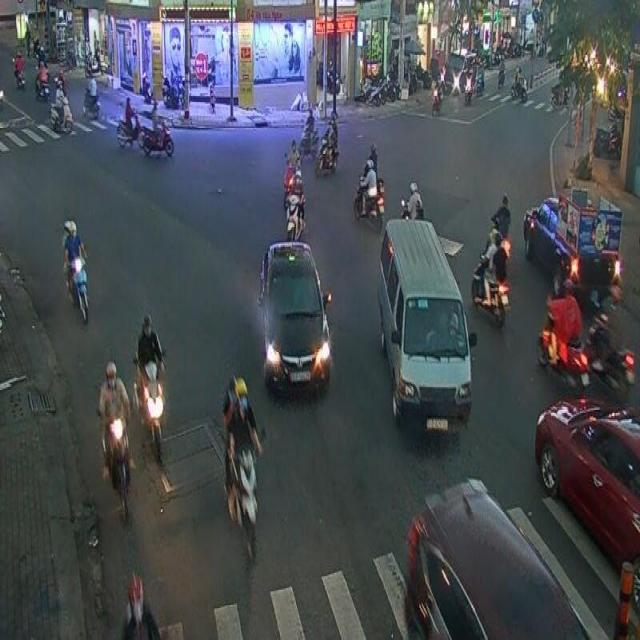car: (534, 399, 640, 564), (260, 241, 332, 393)
motorcycle: (223, 375, 262, 558), (536, 277, 590, 392), (96, 363, 131, 521), (132, 314, 166, 462), (472, 227, 511, 323), (62, 219, 89, 323), (142, 101, 174, 157), (358, 157, 384, 221), (285, 169, 306, 242)
truck: (378, 219, 471, 432)
